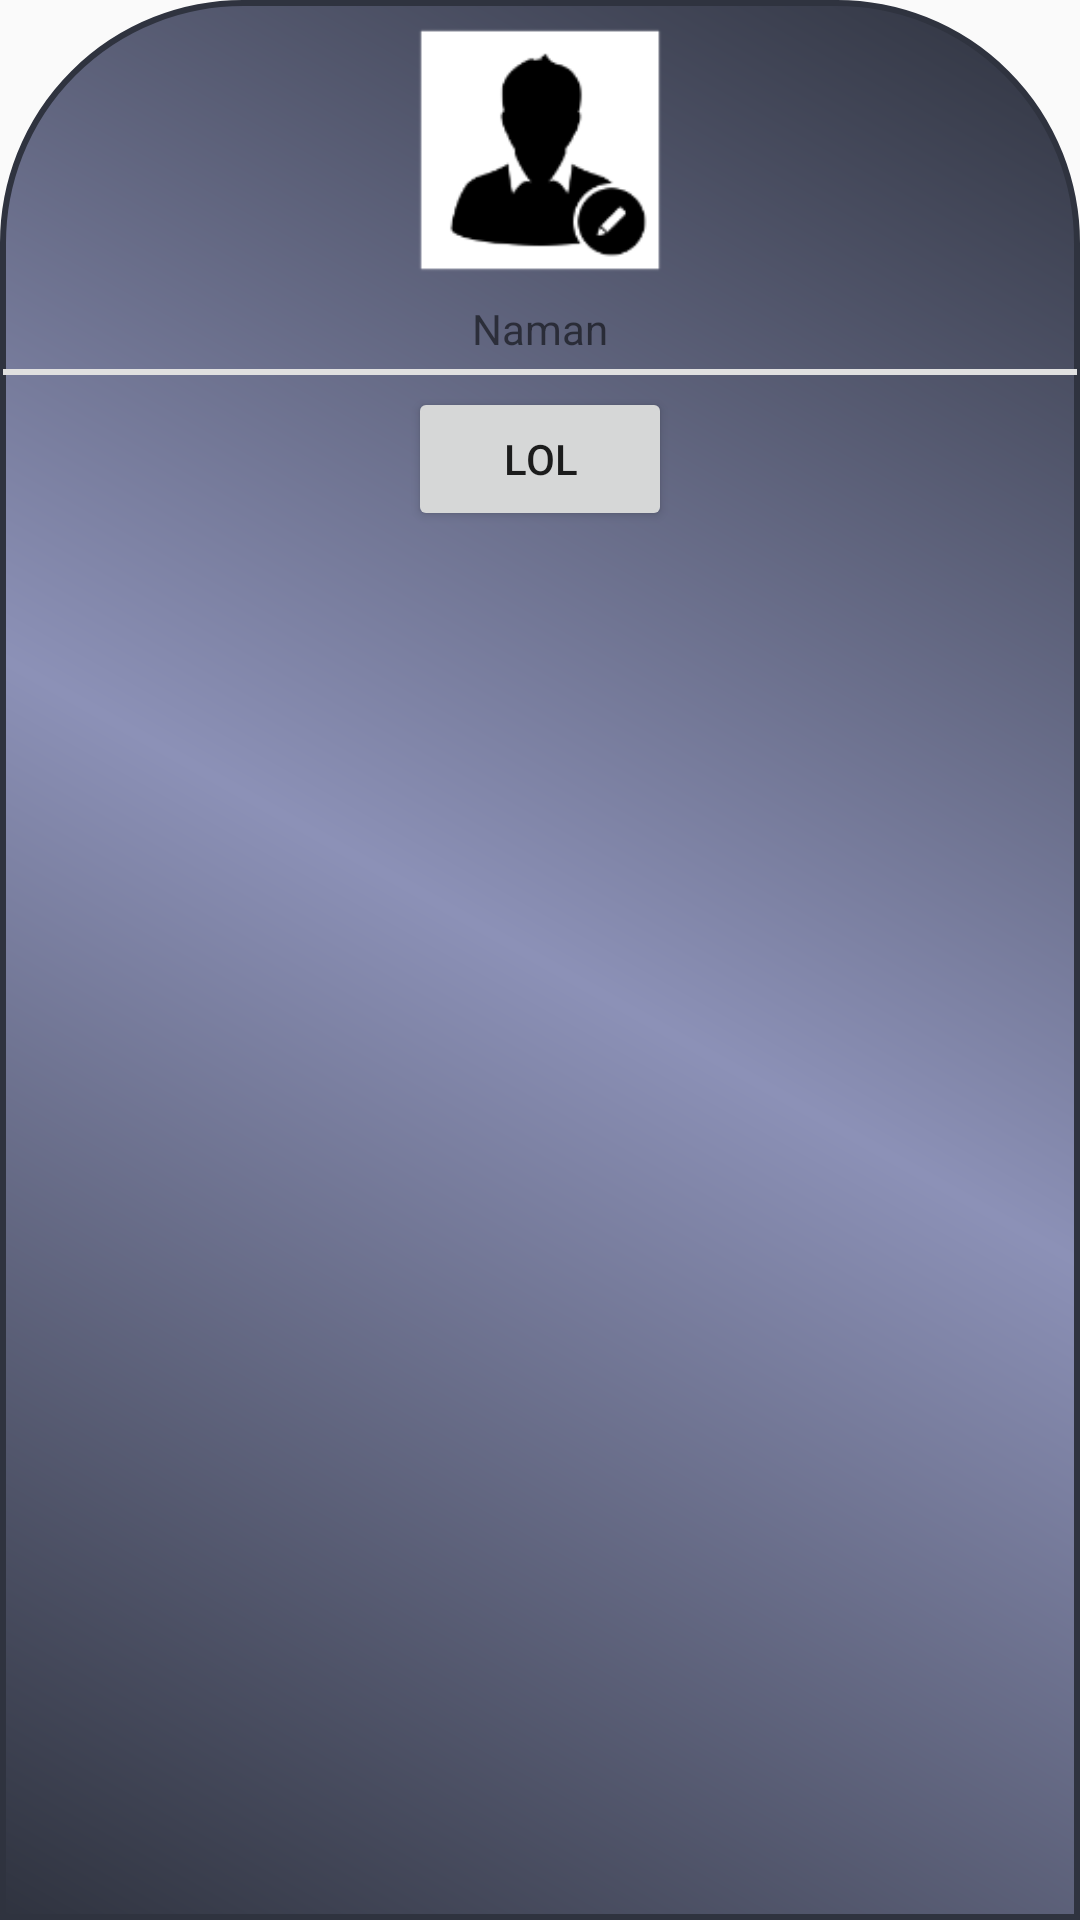

Icons on this 1080×1920 Android screen, each with its box as (x1,y1,x2,y2):
profile: (390,0,690,270)
